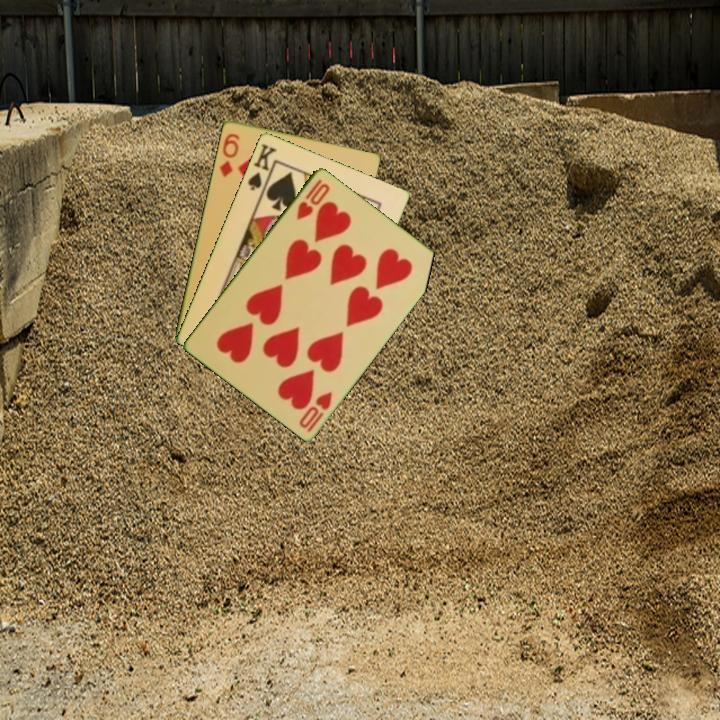10h: (293, 175, 333, 222), (295, 388, 335, 435)
6d: (216, 129, 242, 180)
Ks: (244, 140, 279, 197)
